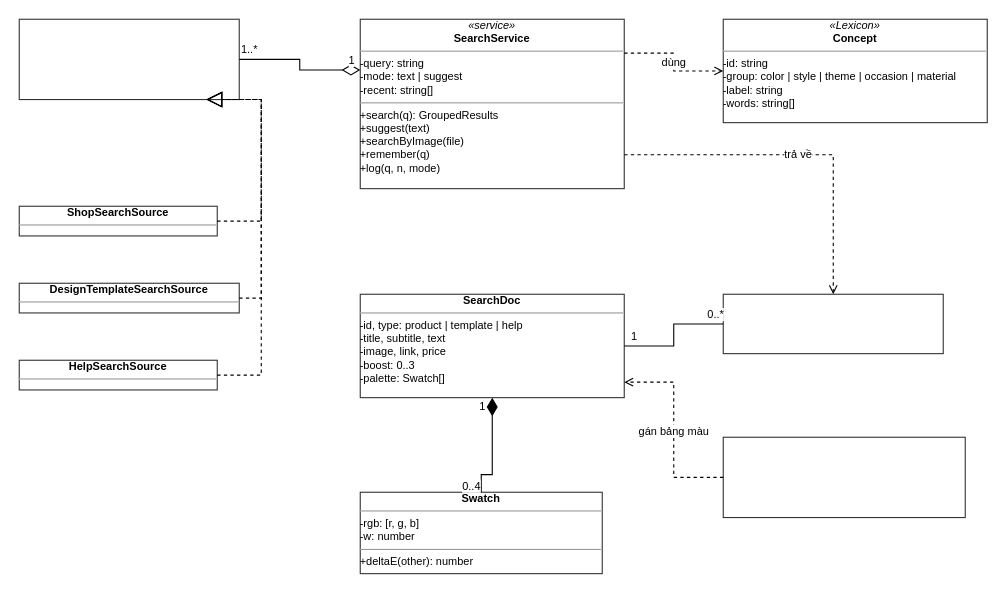
This 1007x593 diagram has some shape labels left out. Here are the shapes that lost their labels. From the top down, the box of each, then its label:
(18, 18, 239, 100): «interface» SearchSource +id: string +docs(): SearchDoc[]
(722, 293, 943, 354): SearchHit -score: number -reasons: string[]
(722, 436, 965, 518): «service» ColorIndex +withPalette(doc): SearchDoc +ensure(docs)
